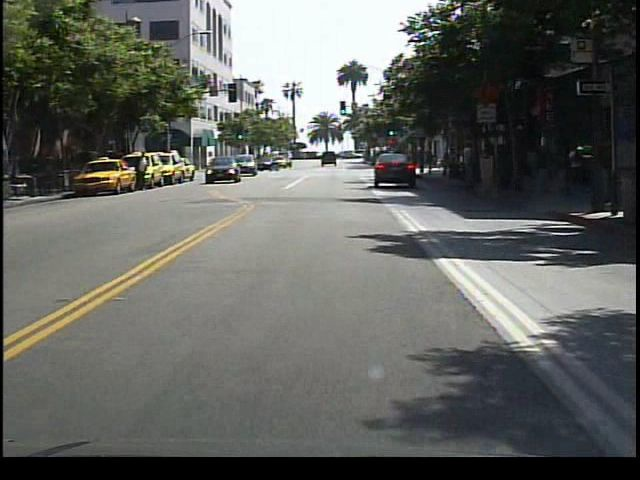person: (458, 136, 480, 196), (136, 148, 153, 195)
